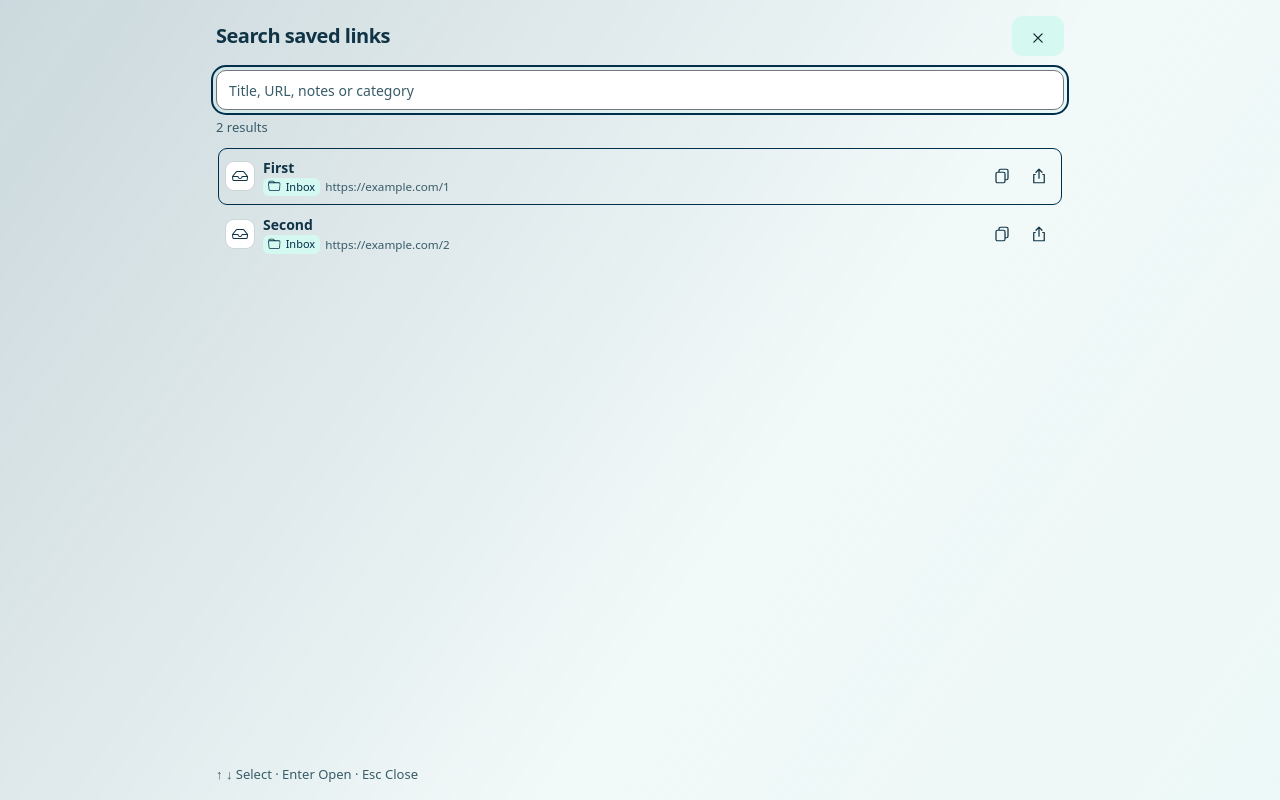
Test: copies or shares the requested row without opening its URL
Click the button named "Copy URL for Second" at (1002, 234), box [986,218,1018,250]
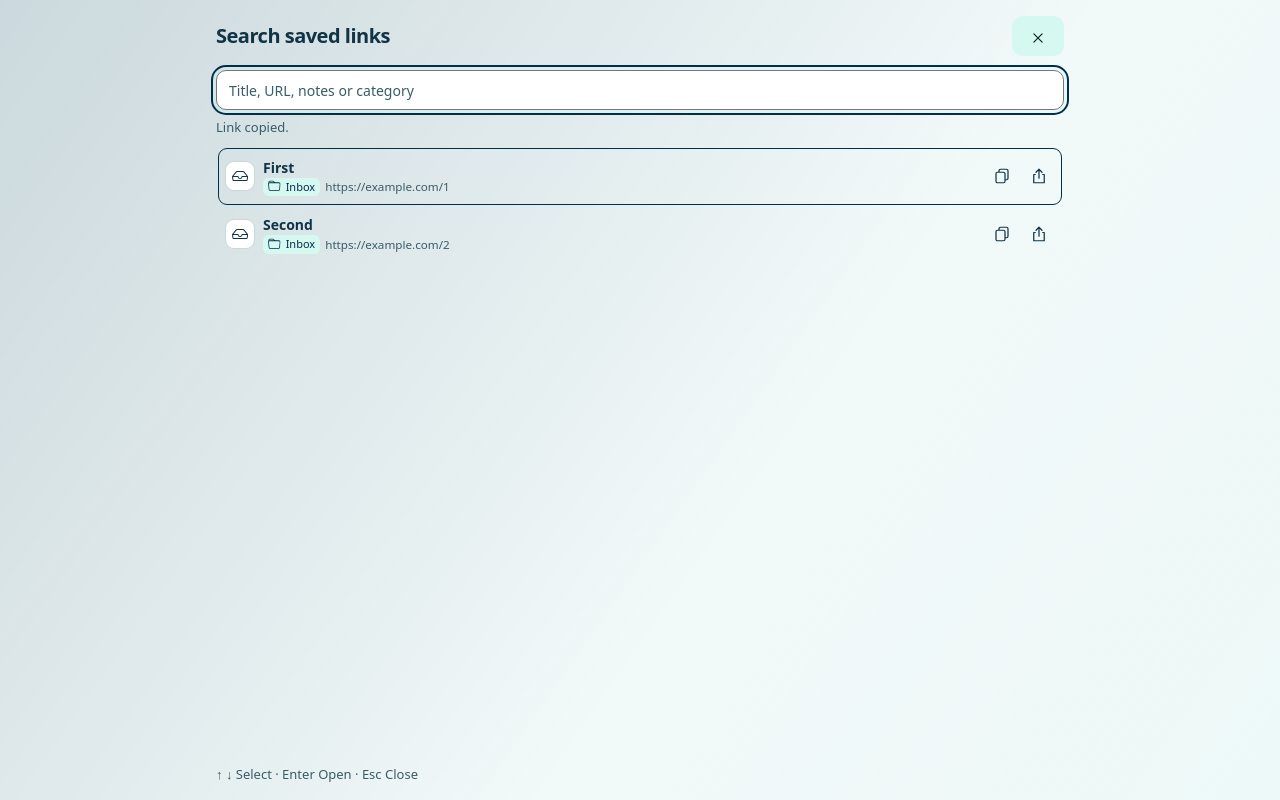
Result: the text "Link copied." is shown at [216,118,289,136]
Click the button named "Share First" at (1039, 176), box [1023,160,1055,192]
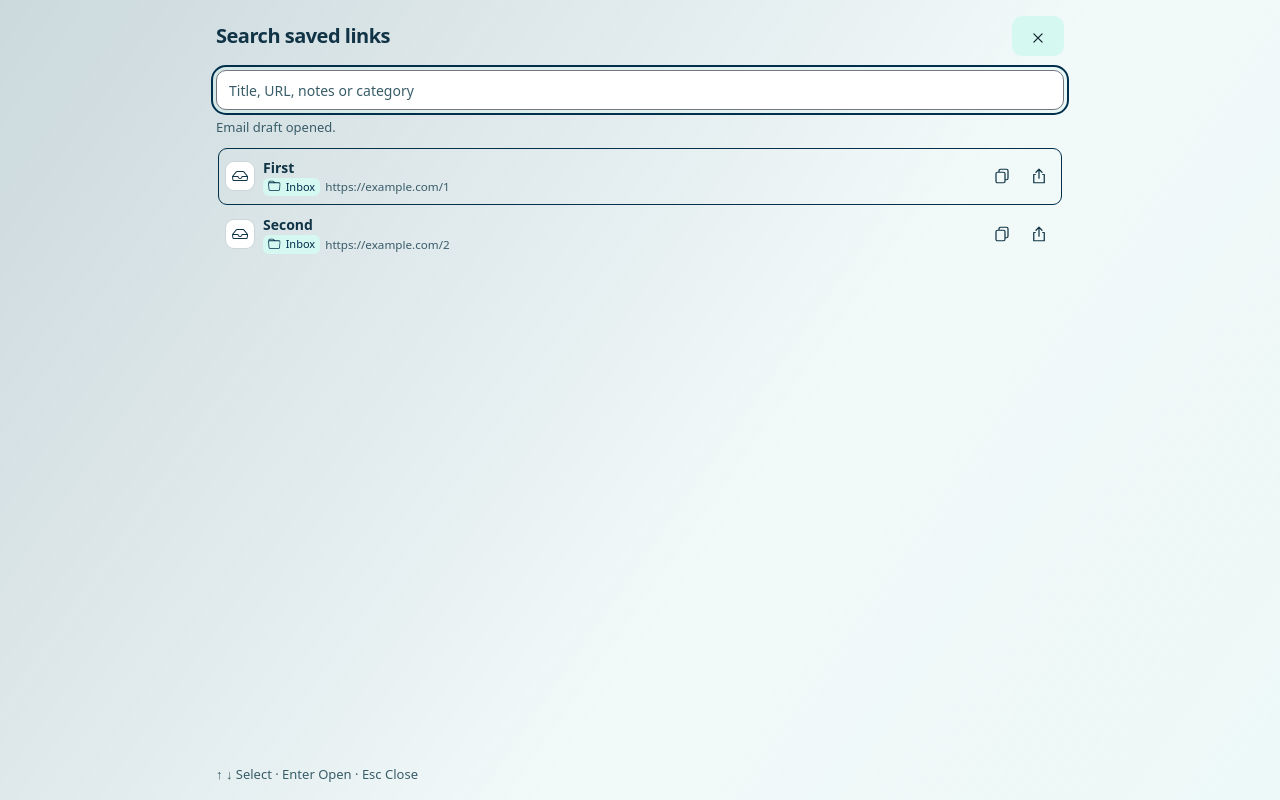
Result: the text "Email draft opened." is shown at [216,118,336,136]
